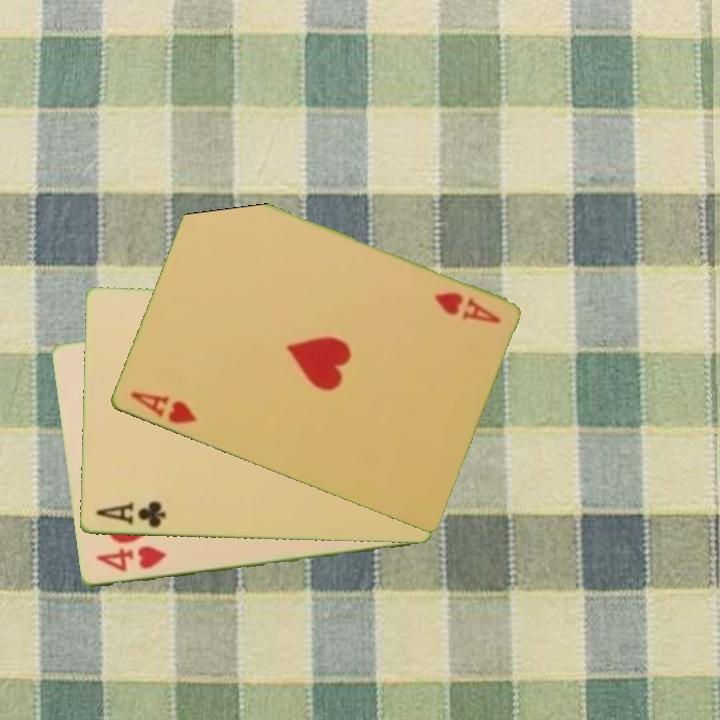4h: (92, 543, 169, 575)
Ac: (92, 498, 169, 531)
Ah: (126, 388, 199, 428), (430, 288, 503, 327)
